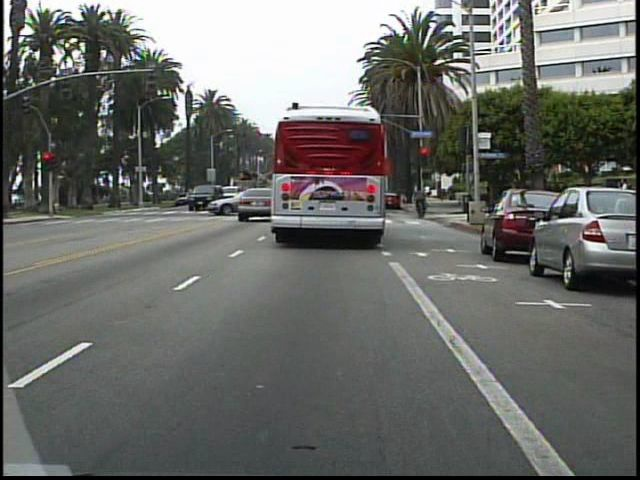person: (409, 182, 430, 217)
